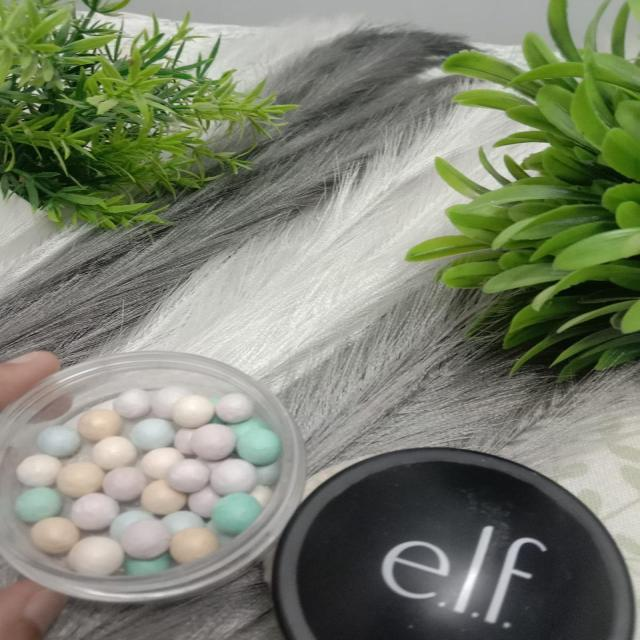lip gloss: (9, 348, 304, 603)
